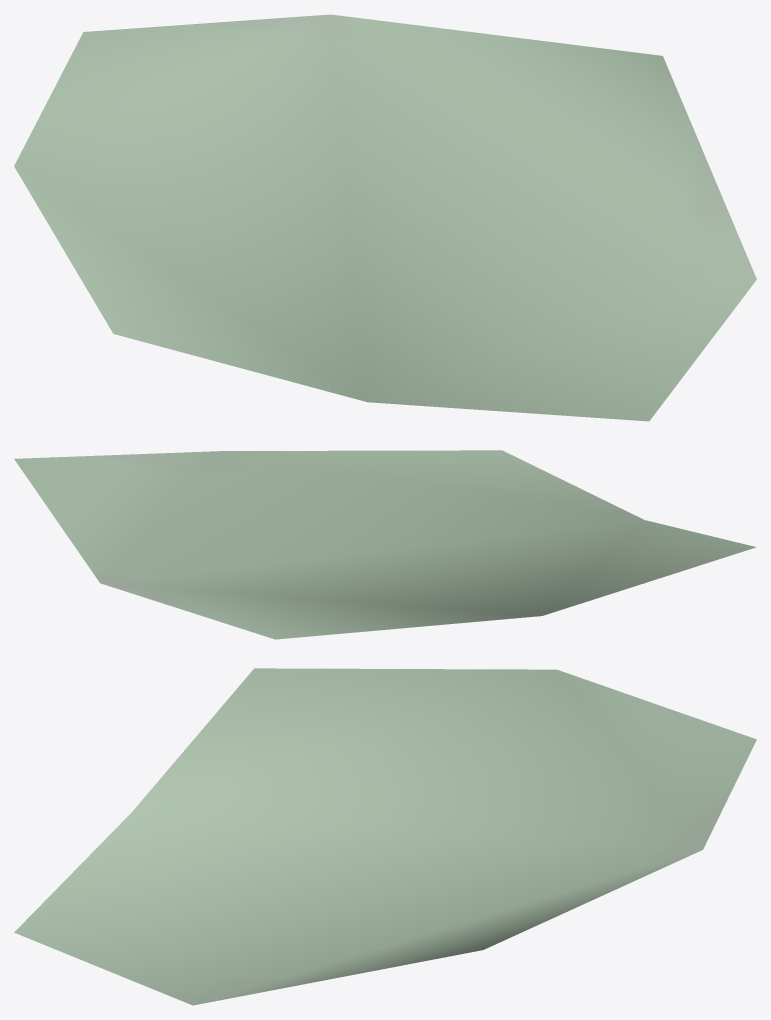
File: TROLLHOLE02_HOLECAP171.fbx
The picture shows the model from 3 angles, top to bottom: view 1: azimuth 30°, elevation 25°; view 2: azimuth 150°, elevation 25°; view 3: azimuth 270°, elevation 25°; orthographic projection. The views are drawn at different scales.
Parts seen in each view (by area): view 1: TROLLHOLE02_HOLECAP171; view 2: TROLLHOLE02_HOLECAP171; view 3: TROLLHOLE02_HOLECAP171.
Part boxes in pixels (box(x1,y1,x2,y2)): TROLLHOLE02_HOLECAP171: box(14, 14, 756, 421); TROLLHOLE02_HOLECAP171: box(14, 450, 756, 639); TROLLHOLE02_HOLECAP171: box(14, 668, 756, 1005).
Size of the model in its own units: 33438 by 6262 by 34788.
1 material, 1 textured.
